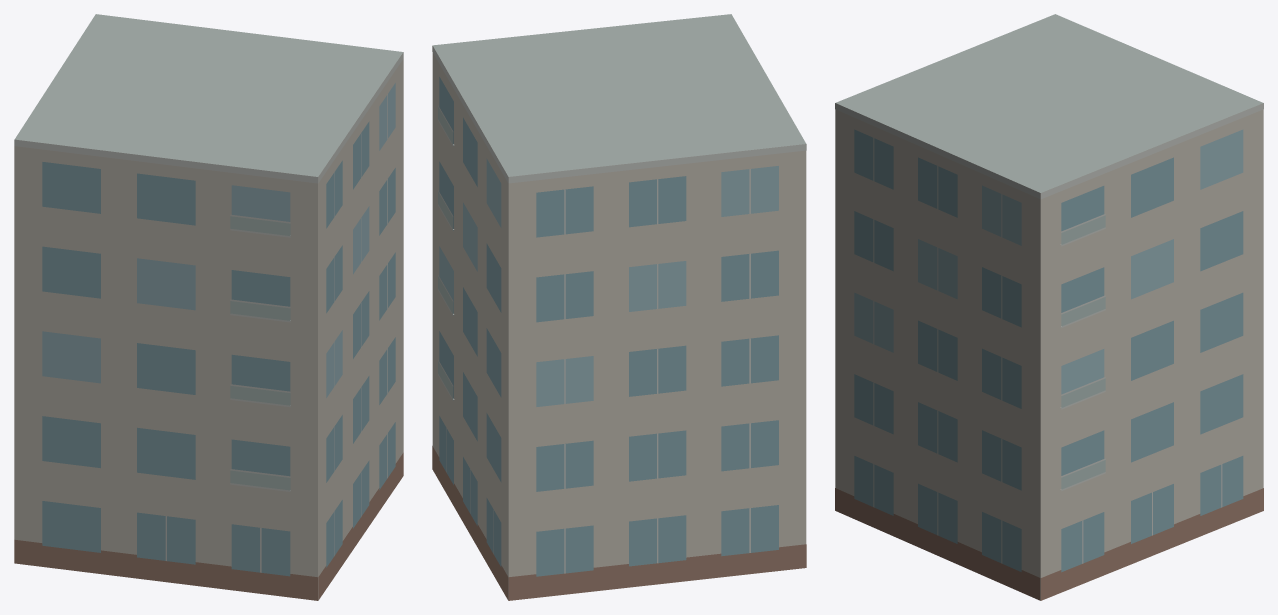
File: survey-upis-32641848.glb
3 renders of one model, left to right at view 1: azimuth 30°, elevation 25°; view 2: azimuth 150°, elevation 25°; view 3: azimuth 270°, elevation 25°, orthographic. The views are drawn at different scales.
Parts seen in each view (by area): view 1: survey-upis-32641848.tmp; view 2: survey-upis-32641848.tmp; view 3: survey-upis-32641848.tmp.
Boxes of the visible parts, <box> form: survey-upis-32641848.tmp: <box>14,14,403,600</box>; survey-upis-32641848.tmp: <box>432,14,806,600</box>; survey-upis-32641848.tmp: <box>835,14,1263,600</box>.
Size of the model in its own units: 14.89 by 15.8 by 15.05.
